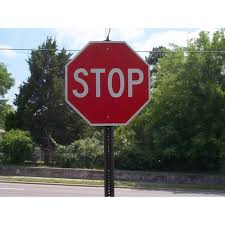stop: (63, 39, 150, 128)
